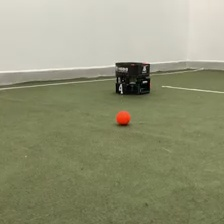ball: (115, 109, 131, 125)
robot: (114, 60, 150, 95)
